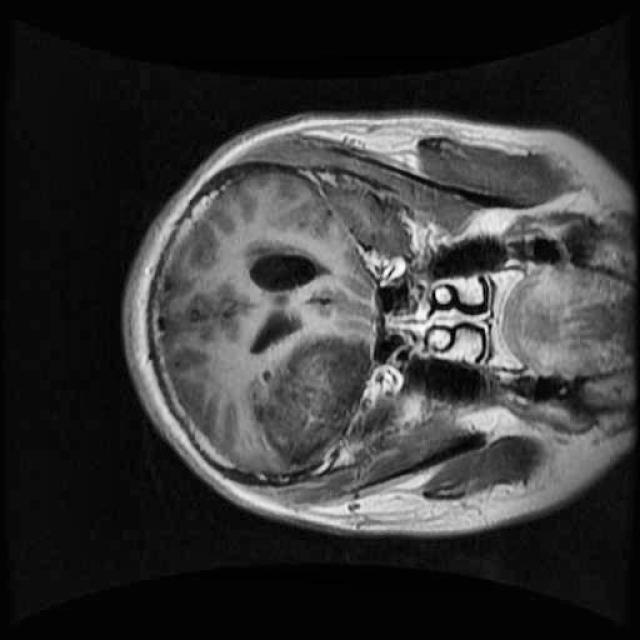Tumor: (241, 321, 385, 480)
